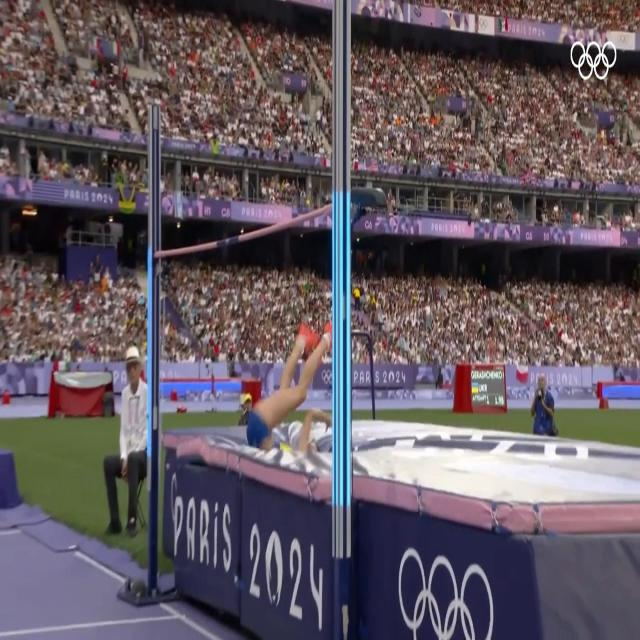land: (247, 319, 325, 451)
